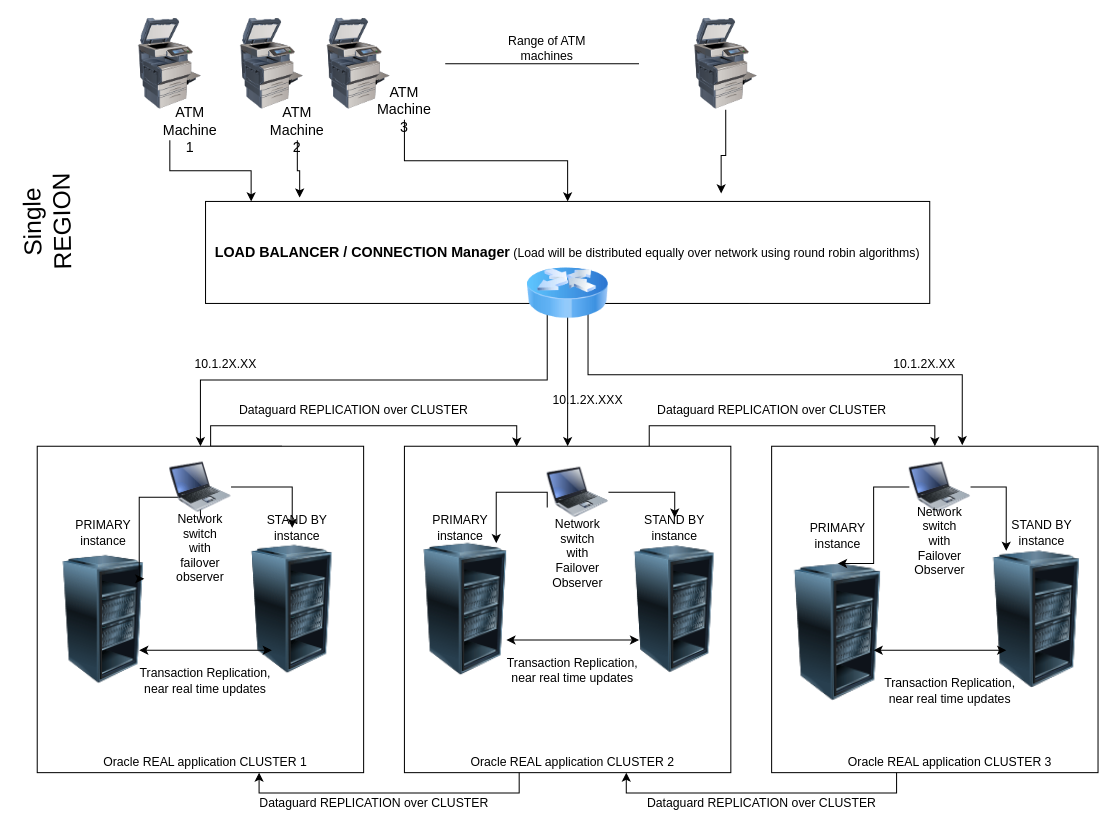
The diagram is 1117 pixels wide and 830 high, and some of its shapes have lost their labels. Each missing label, with the centre of its shape:
"ATM 3000" belongs at [725,63].
"Request Routing" belongs at [567,293].
